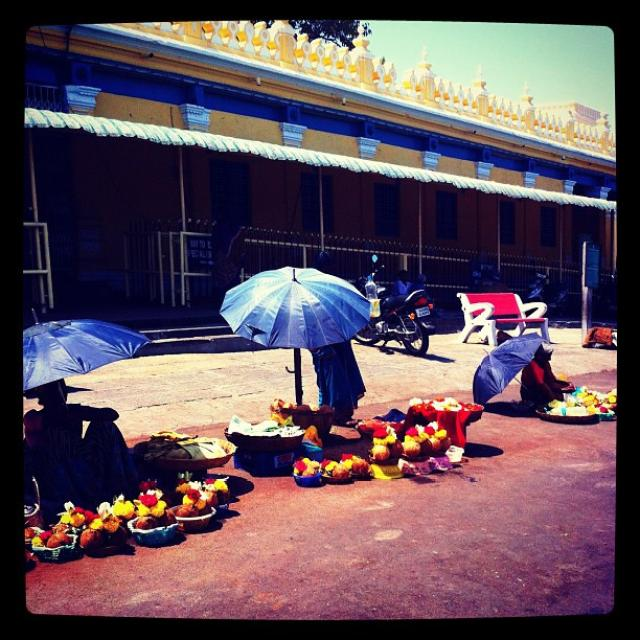motor: (349, 255, 435, 354)
